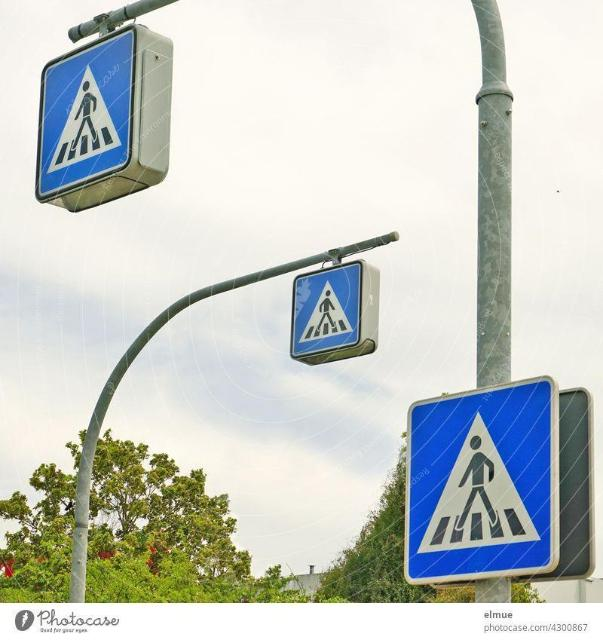crosswalk-sign: (404, 375, 561, 586), (35, 24, 173, 213), (290, 260, 380, 367)
